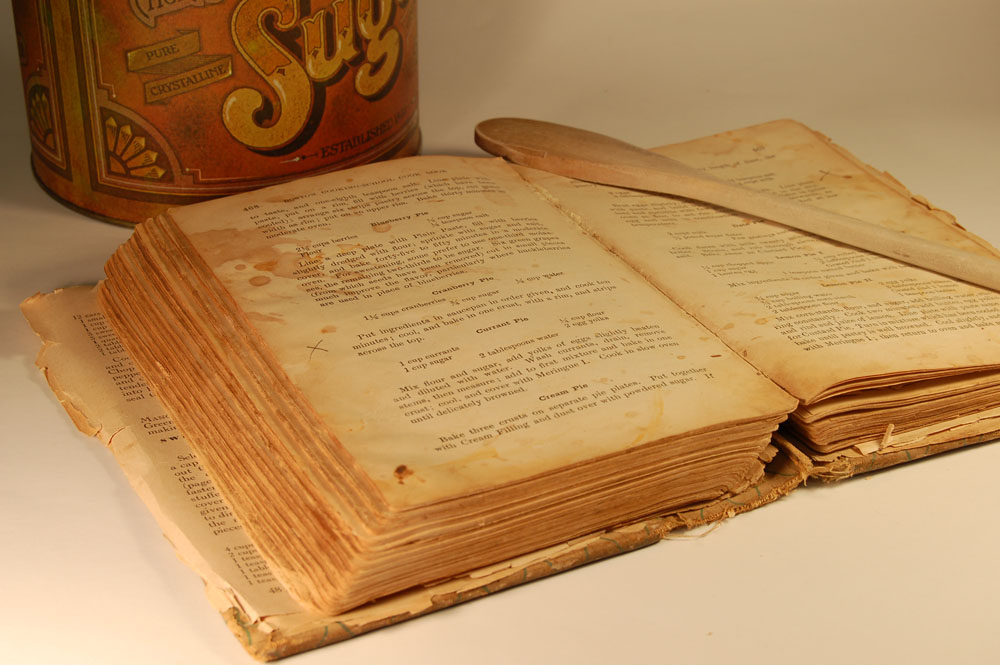book: (19, 104, 1000, 659)
